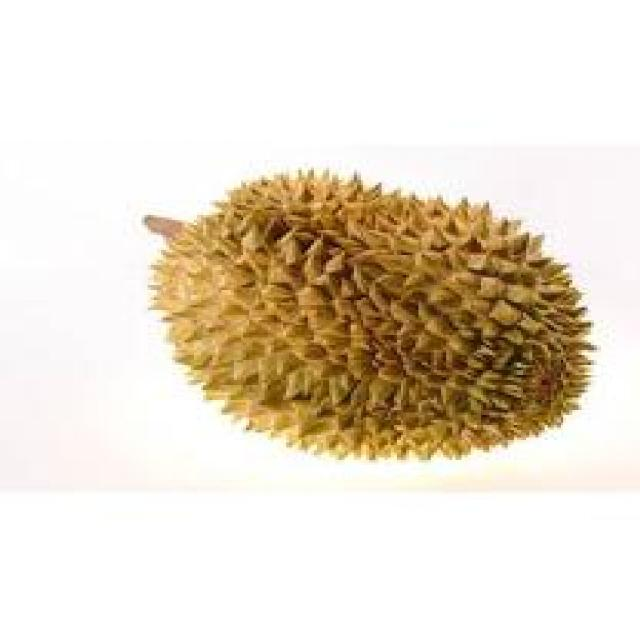fruit: (255, 167, 616, 505)
